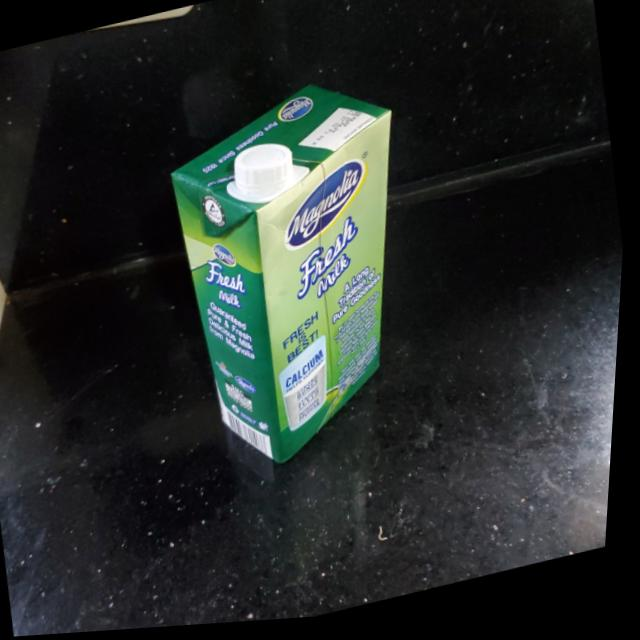milk: (147, 65, 455, 487)
